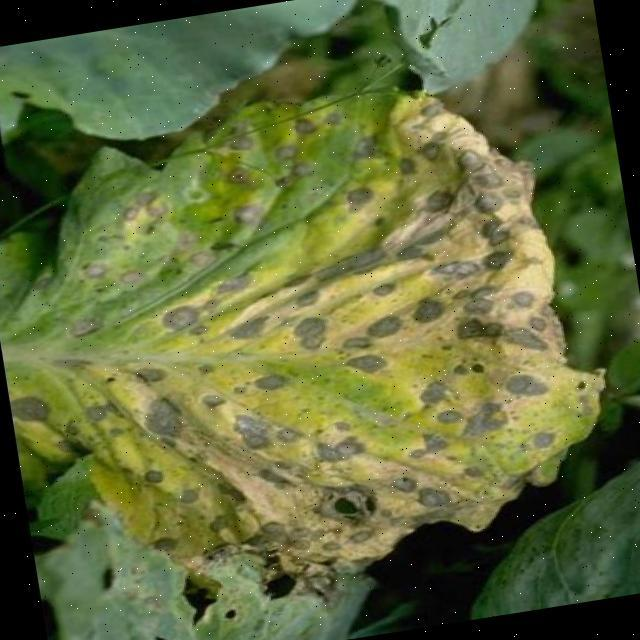Lettuce Mosaic Virus: (81, 148, 552, 517)
